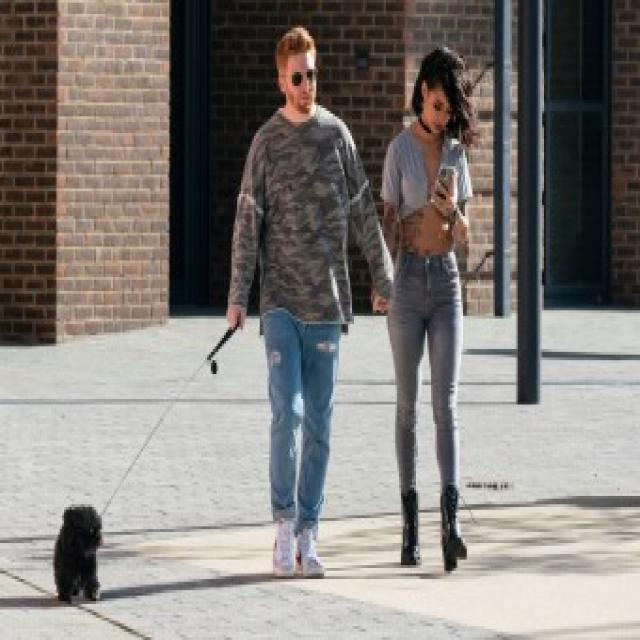dog: (225, 27, 394, 580), (374, 48, 474, 573), (54, 502, 104, 601)
